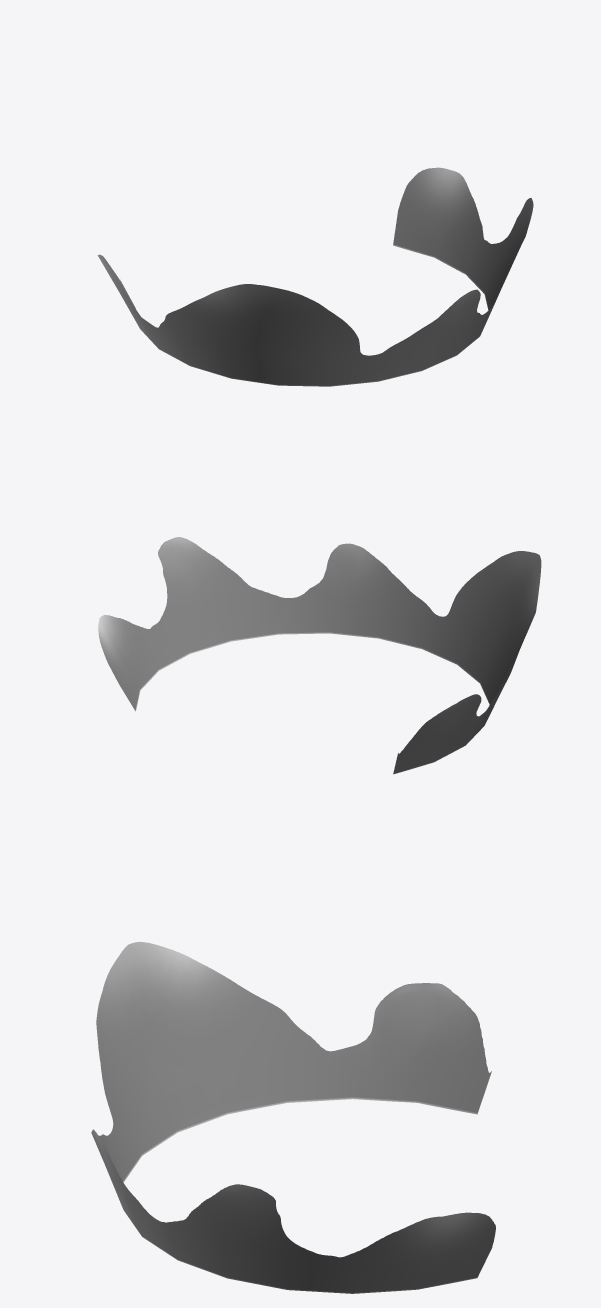
File: qilang_herrymorgan 2.FBX
3 renders of one model, top to bottom at view 1: azimuth 30°, elevation 25°; view 2: azimuth 150°, elevation 25°; view 3: azimuth 270°, elevation 25°, orthographic. The views are drawn at different scales.
Visible parts, largest first — view 1: Plane003; view 2: Plane003; view 3: Plane003.
Part boxes in pixels (left/top/right/bottom): Plane003: left=97, top=167, right=533, bottom=386; Plane003: left=98, top=537, right=541, bottom=774; Plane003: left=91, top=941, right=495, bottom=1293.
Size of the model in its own units: 39.25 by 13.66 by 30.11.
